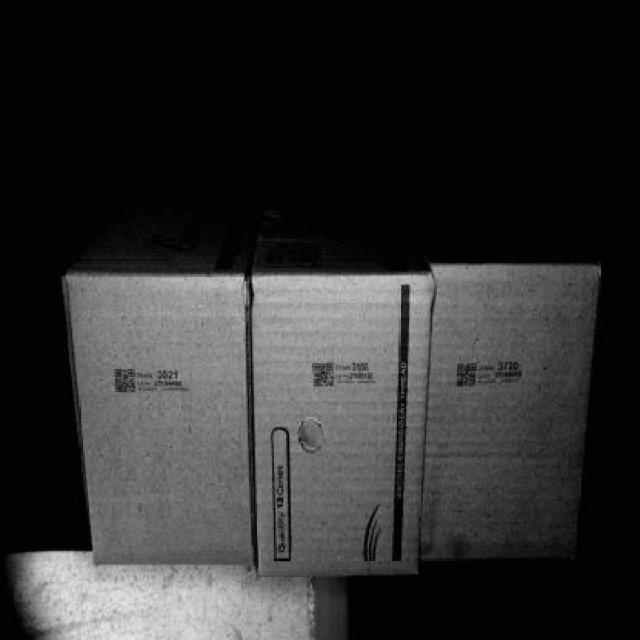cardboxes: (72, 272, 260, 574), (258, 272, 424, 580), (438, 268, 594, 566)
